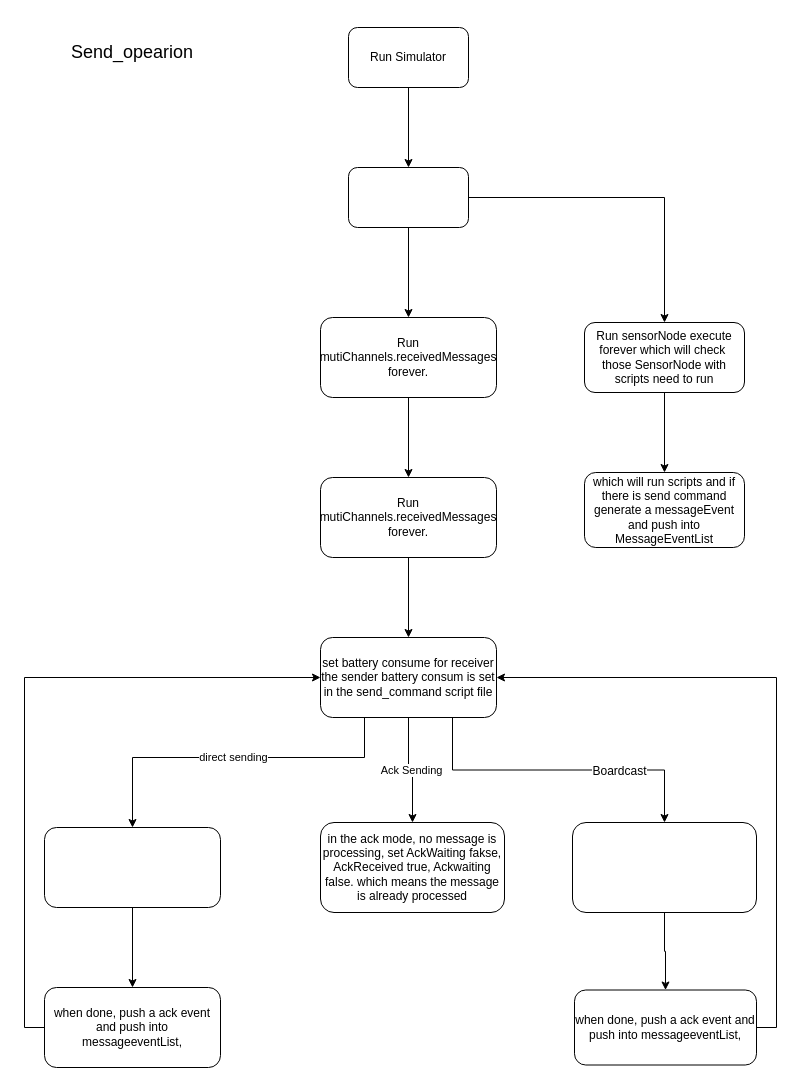
This 802x1085 diagram has some shape labels left out. Each missing label, with the box of its shape:
check errorbits for each modules if ok add Message to Buffer: (44, 826, 220, 908)
init deviceList load Routes init mutichannels init MessageEventList: (348, 166, 468, 228)
no matter there are errorbits send messages to buffer: (572, 822, 756, 912)
